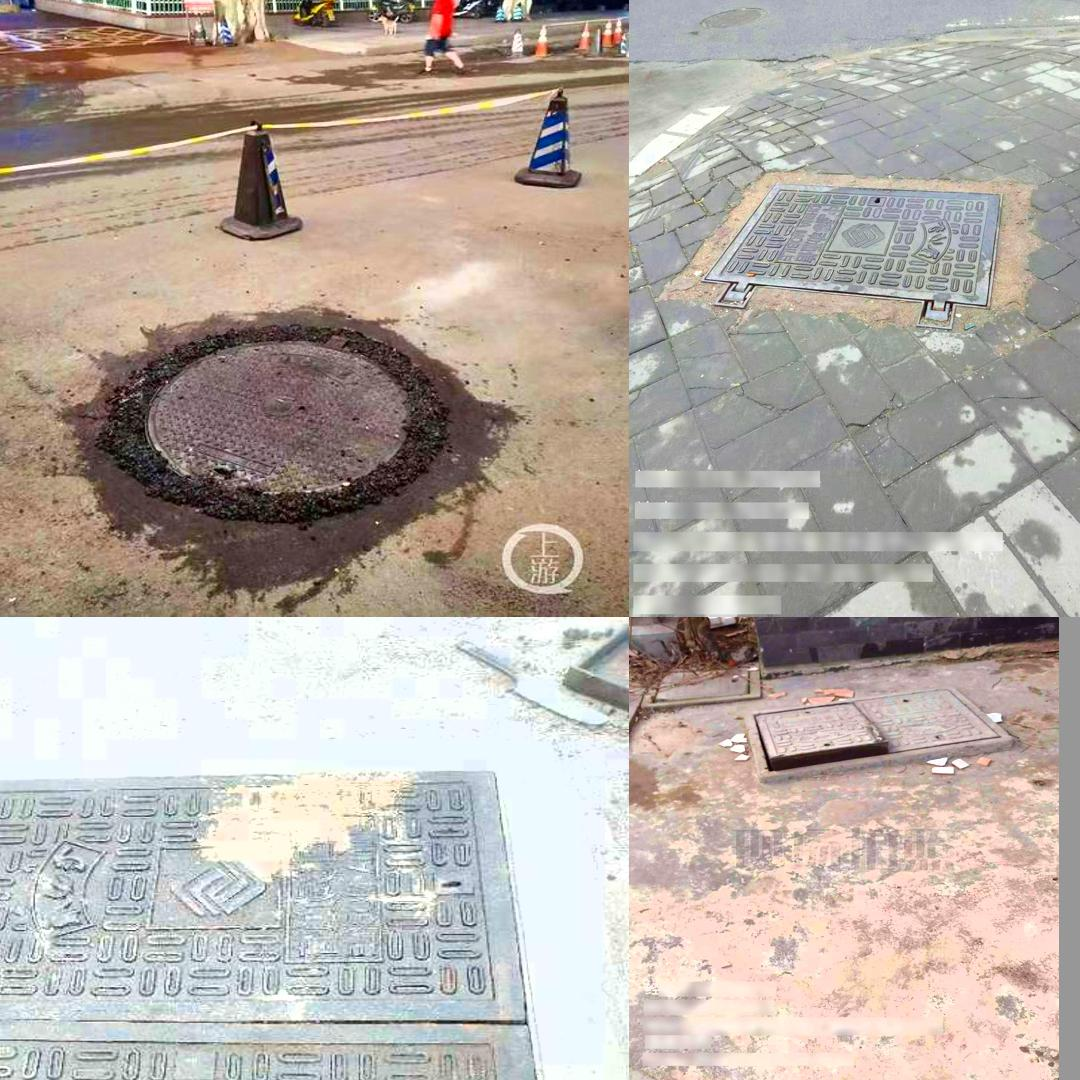good: (0, 765, 591, 1080), (68, 298, 496, 577), (698, 180, 1000, 331), (640, 660, 761, 706)
uncovered: (744, 687, 1014, 782)
